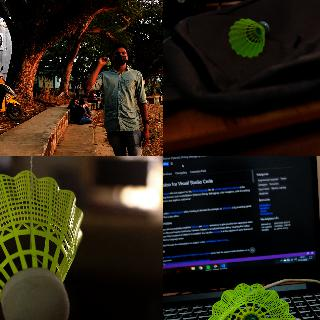shuttlecock: (0, 169, 83, 319), (205, 283, 296, 319), (228, 18, 268, 56), (106, 58, 110, 64)
